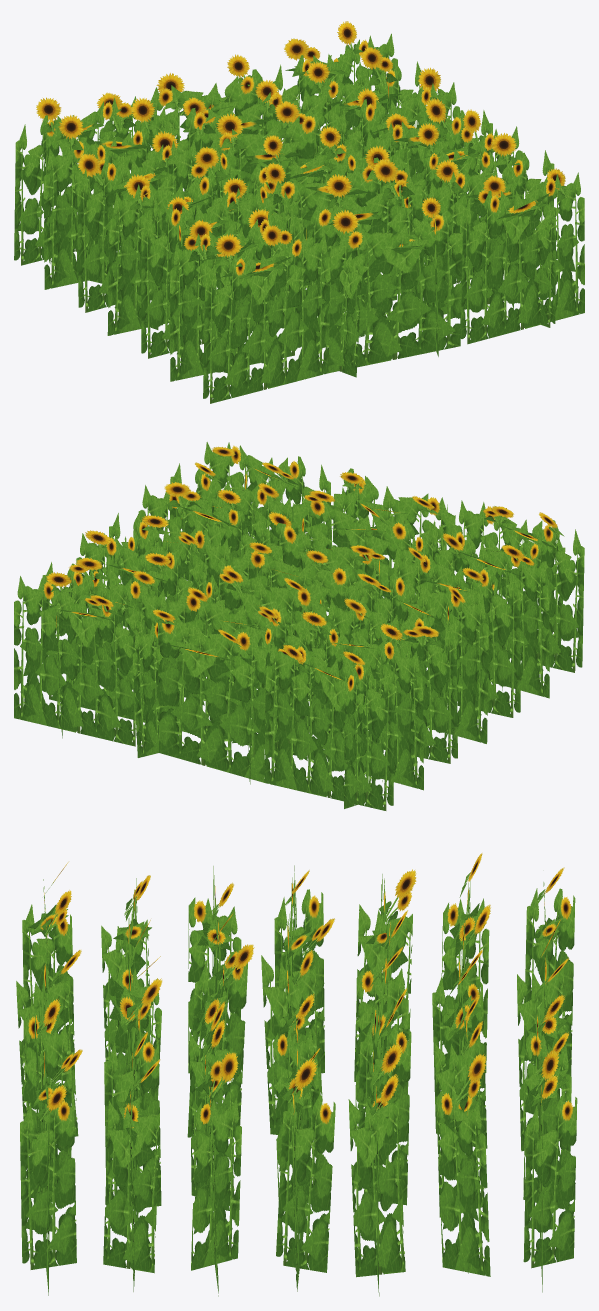
File: crop_sunflower_patch.glb
The picture shows the model from 3 angles, top to bottom: view 1: azimuth 30°, elevation 25°; view 2: azimuth 150°, elevation 25°; view 3: azimuth 270°, elevation 25°; orthographic projection. The views are drawn at different scales.
Visible parts, largest first — view 1: SunflowerFieldPatch; view 2: SunflowerFieldPatch; view 3: SunflowerFieldPatch.
Part boxes in pixels (<box>): SunflowerFieldPatch: <box>14,21,584,403</box>; SunflowerFieldPatch: <box>14,442,584,810</box>; SunflowerFieldPatch: <box>16,853,577,1296</box>.
Size of the model in its own units: 5 by 2.11 by 4.91.
Materials: 1 (1 with a texture image).
